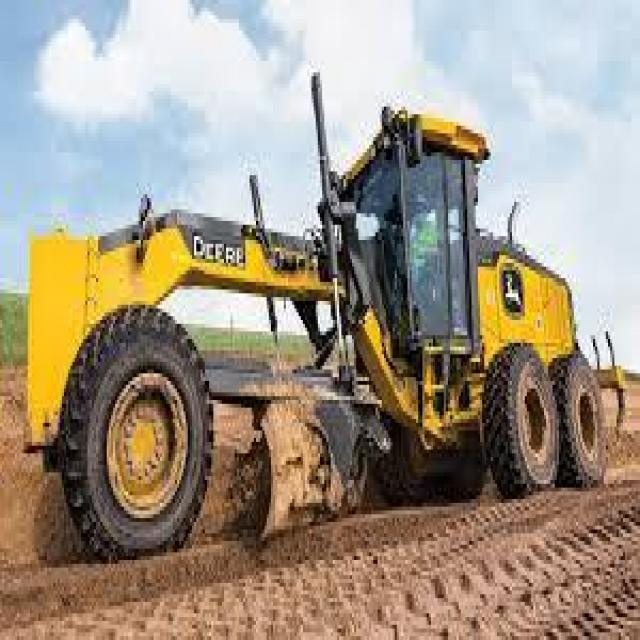Grader: (15, 80, 619, 587)
